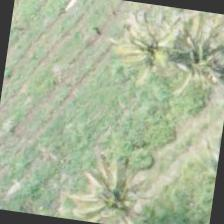Kelapa_Sawit: (86, 0, 188, 96), (63, 143, 164, 223), (145, 13, 223, 114)
